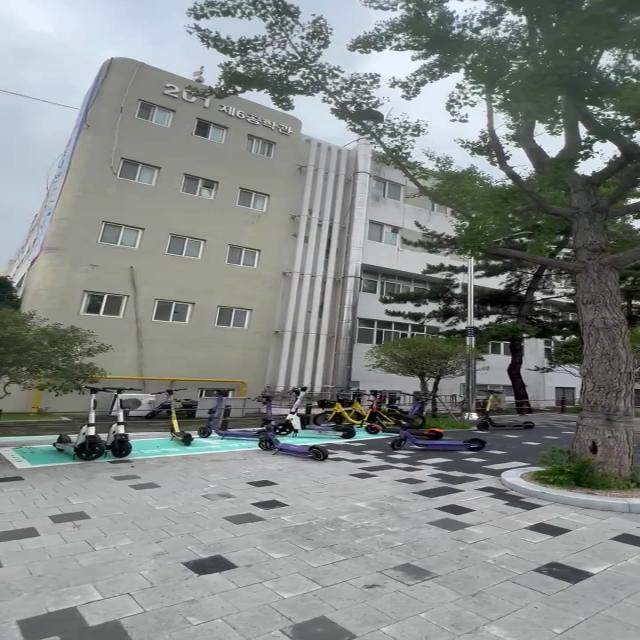building: (34, 64, 357, 343)
